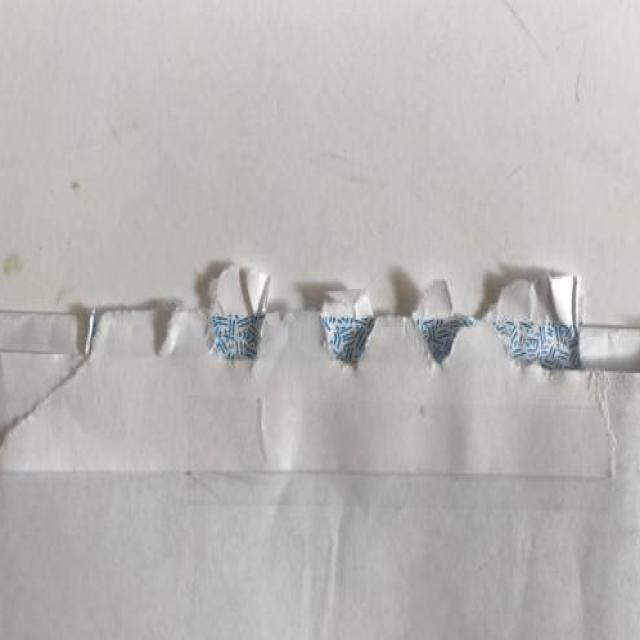kertas: (0, 266, 640, 640)
